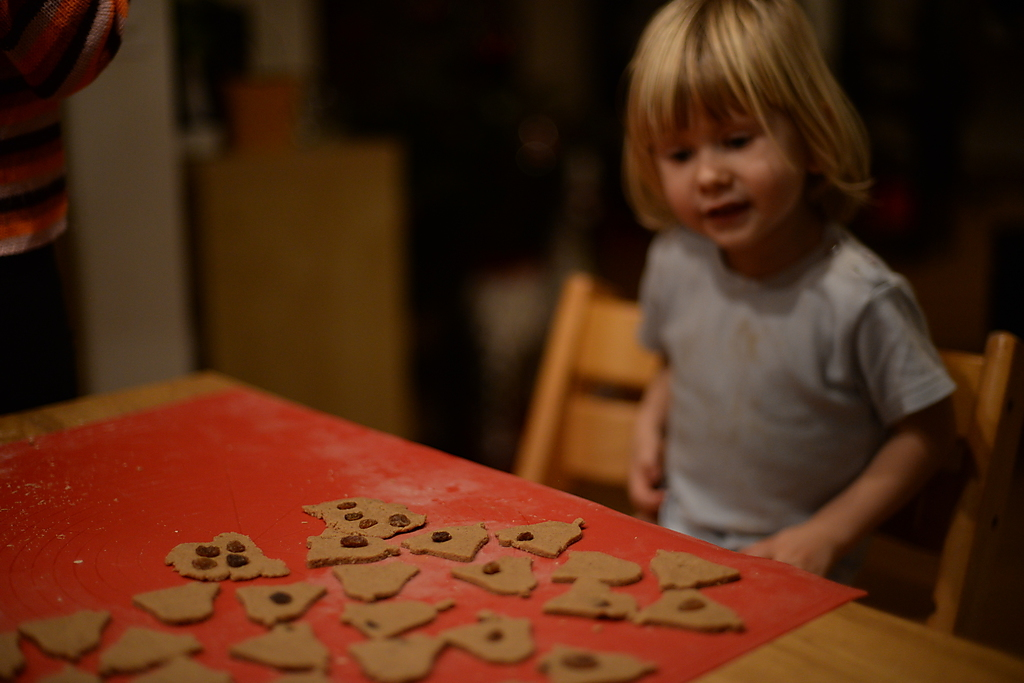Human_hand: (741, 527, 833, 577), (620, 427, 664, 512)
